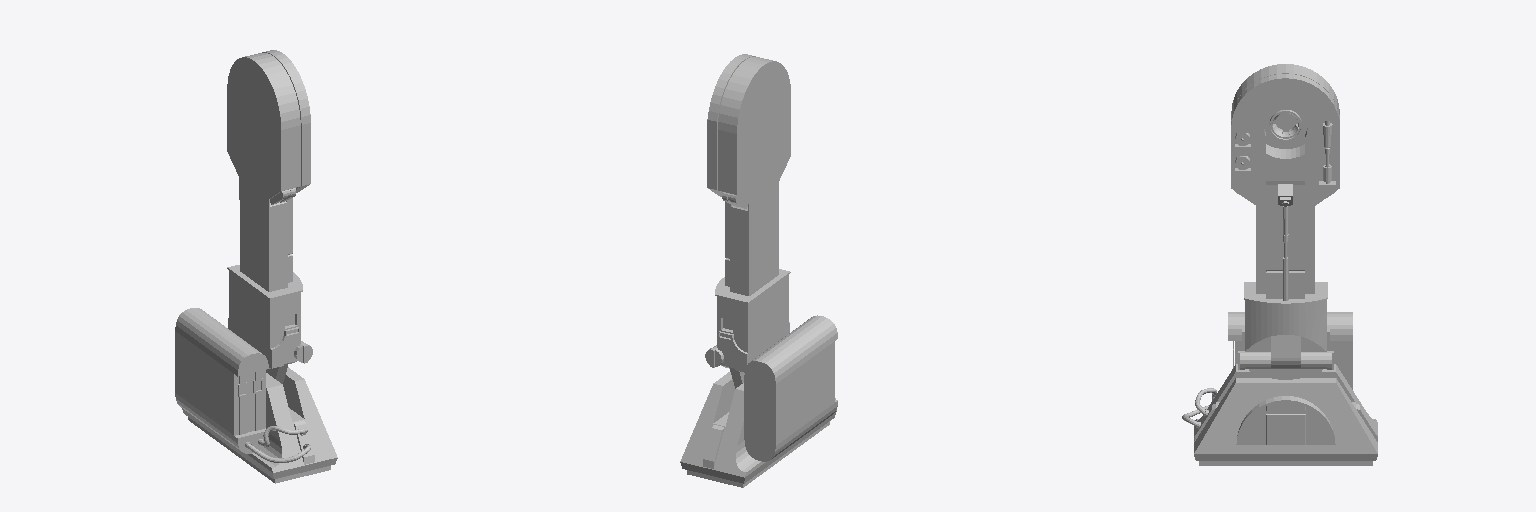
Rendered from pata derecha color 2.obj.
3 views of the same model, side by side, from view 1: azimuth 30°, elevation 25°; view 2: azimuth 150°, elevation 25°; view 3: azimuth 270°, elevation 25° (orthographic).
Visible parts, largest first — view 1: pata_derecha_2; view 2: pata_derecha_2; view 3: pata_derecha_2.
Part boxes in pixels (bbox=[...]): pata_derecha_2: bbox=[175, 50, 337, 483]; pata_derecha_2: bbox=[680, 54, 837, 487]; pata_derecha_2: bbox=[1182, 64, 1377, 465].
Bounding box in the file's own units: 1.9 × 7.9 × 3.65.